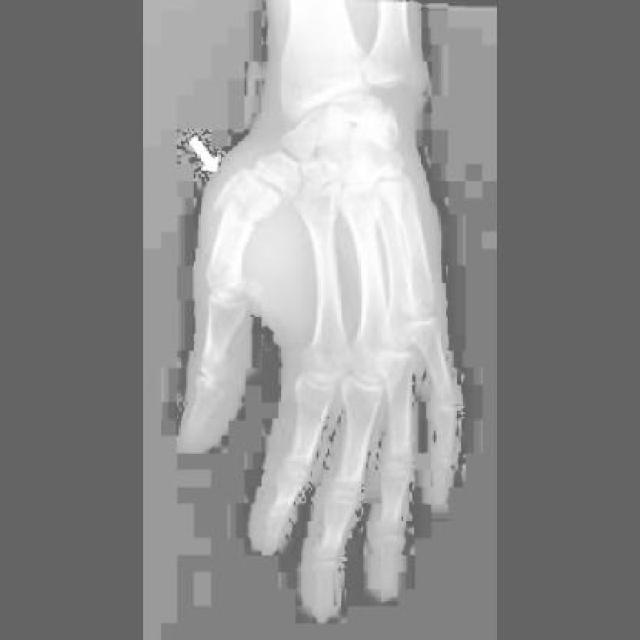Fracture: (205, 166, 279, 234)
